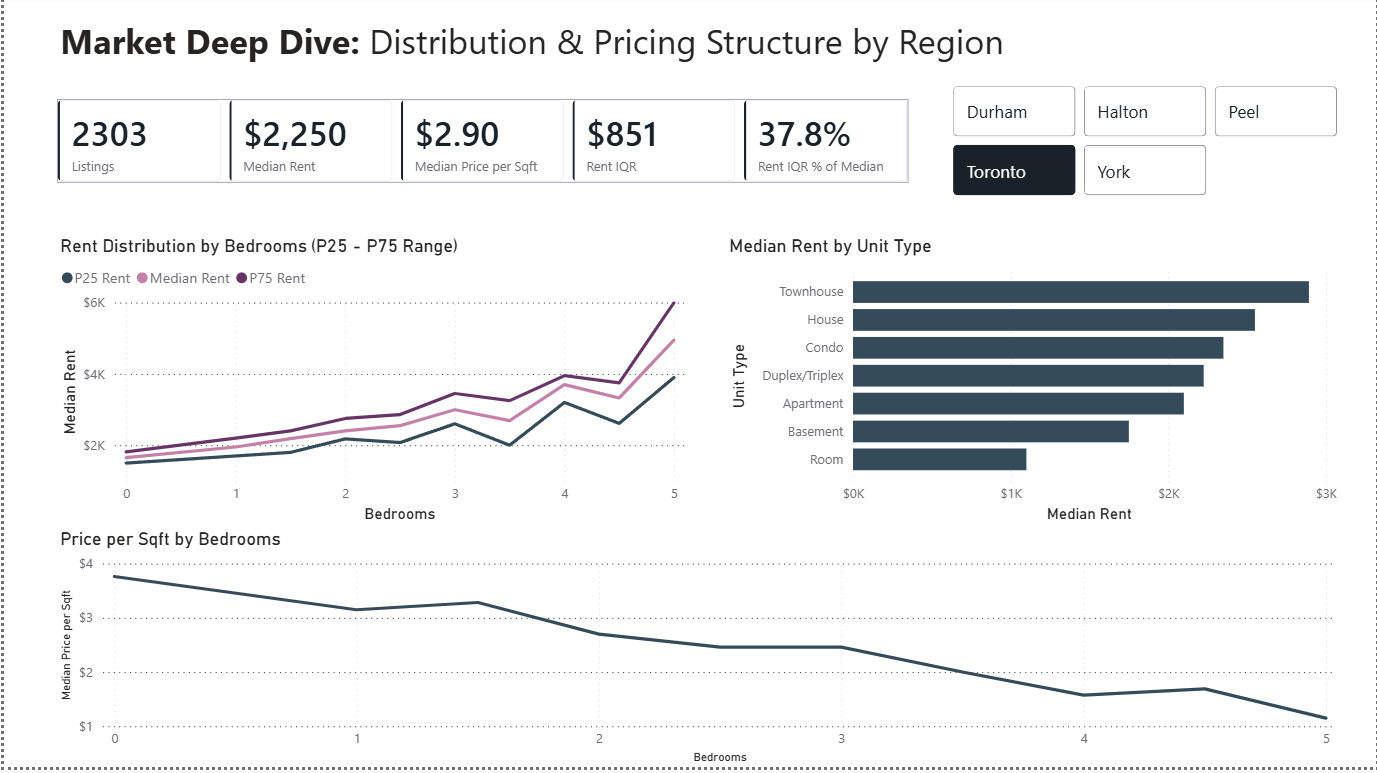

The page's visual inventory and layout, read from the dashboard file:
{"tool":"powerbi","page":{"name":"Market Deep Dive","canvas":[1280,720],"ordinal":1},"visuals":[{"type":"textbox","box":[48,16,1232,80],"z":0},{"type":"cardVisual","fields":{"Data":["CountNonNull(kijiji_rentals_clean.Posting Title)","kijiji_rentals_clean.Median Rent","kijiji_rentals_clean.Median Price per Sqft","kijiji_rentals_clean.Rent IQR","kijiji_rentals_clean.Rent IQR % of Median"]},"box":[32,80,832,112],"z":1000},{"type":"lineChart","title":"Rent Distribution by Bedrooms (P25 - P75 Range)","fields":{"Category":["kijiji_rentals_clean.Bedrooms"],"Y":["kijiji_rentals_clean.P25 Rent","kijiji_rentals_clean.Median Rent","kijiji_rentals_clean.P75 Rent"]},"box":[48,224,592,272],"z":2000},{"type":"barChart","fields":{"Y":["kijiji_rentals_clean.Median Rent"],"Category":["kijiji_rentals_clean.Unit Type"]},"box":[672,224,576,272],"z":3000},{"type":"lineChart","title":"Price per Sqft by Bedrooms","fields":{"Y":["kijiji_rentals_clean.Median Price per Sqft"],"Category":["kijiji_rentals_clean.Bedrooms"]},"box":[48,496,1200,224],"z":4000},{"type":"advancedSlicerVisual","fields":{"Values":["kijiji_rentals_clean.Region"]},"box":[880,80,368,112],"z":5000}]}

Visuals, with their boxes in screenshot pixels (x1, y1, x2, y2), scaled from the page's 1280x720 canvas onto the 1377x773 screenshot:
textbox: 52:17:1376:103
cardVisual - CountNonNull(kijiji_rentals_clean.Posting Title) x kijiji_rentals_clean.Median Rent: 34:86:929:206
"Rent Distribution by Bedrooms (P25 - P75 Range)" lineChart: 52:240:688:533
barChart - kijiji_rentals_clean.Median Rent x kijiji_rentals_clean.Unit Type: 723:240:1343:533
"Price per Sqft by Bedrooms" lineChart: 52:533:1343:772
advancedSlicerVisual - kijiji_rentals_clean.Region: 947:86:1343:206
